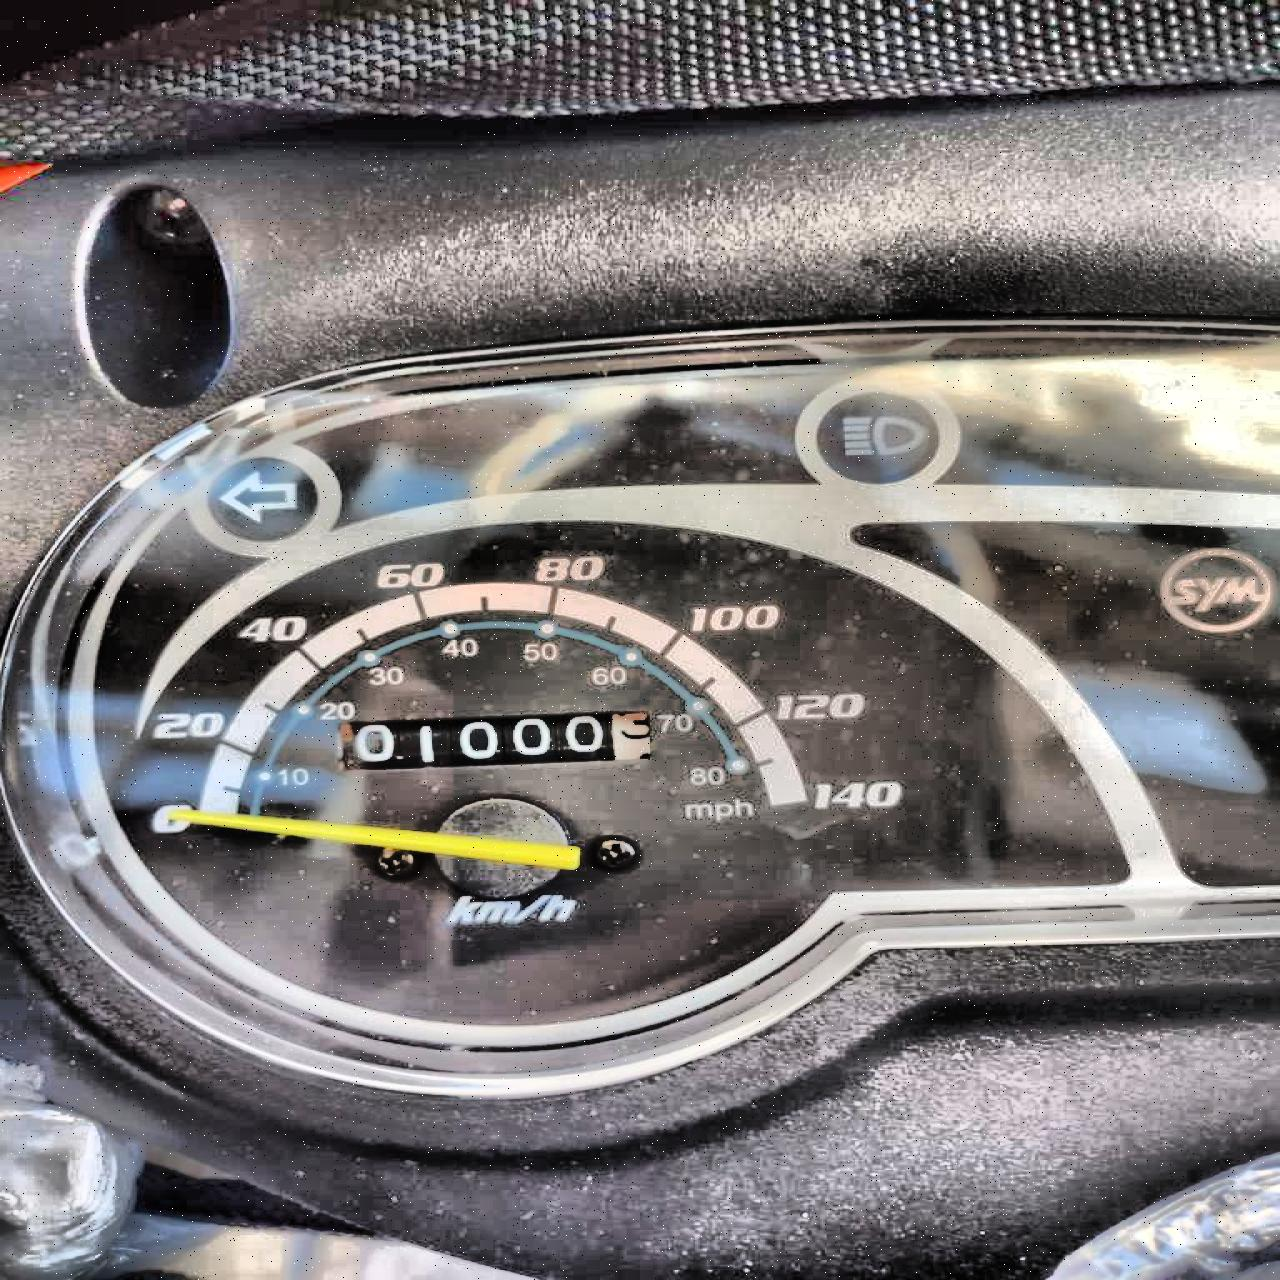0: (354, 722, 394, 762), (458, 720, 497, 760), (512, 716, 550, 754), (564, 714, 601, 751)
1: (417, 723, 435, 763)
3: (617, 707, 652, 738)
odometer: (332, 708, 652, 772)
